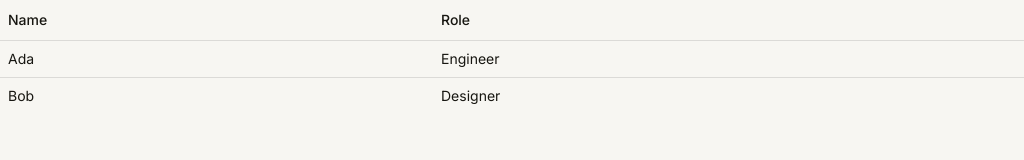
Scenario: Table in-place cell editing (widget level) › Escape cancels the edit — no onchange, value restored
This screenshot has width=1024, height=160.
Click the button "Ada": [21, 58] box [8,50,34,66]
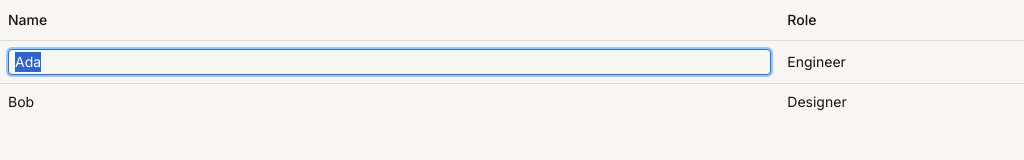
Replace the text in the field named "Edit Name value" with "Discarded": [390, 62] box [8,48,771,74]
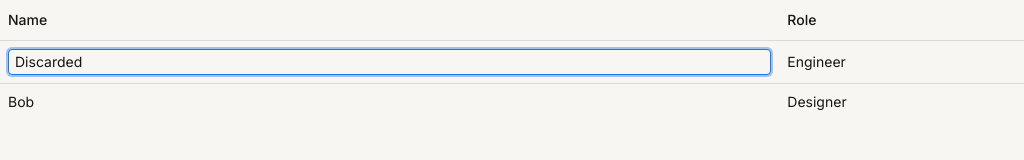
Press Escape in the field named "Edit Name value", box [8,48,771,74]
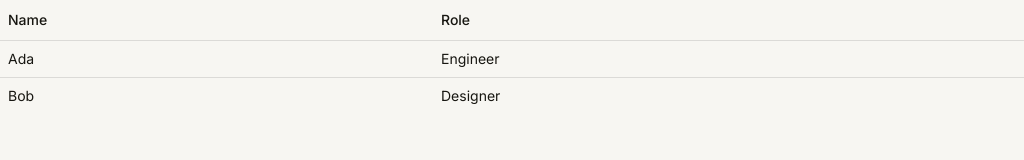
Expected: the text "Discarded" is not shown
Result: the field is gone
Result: the text "Ada" is shown at [8,50,34,66]
